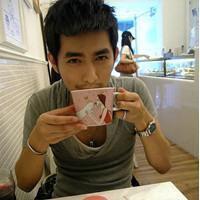face: (56, 29, 114, 101)
